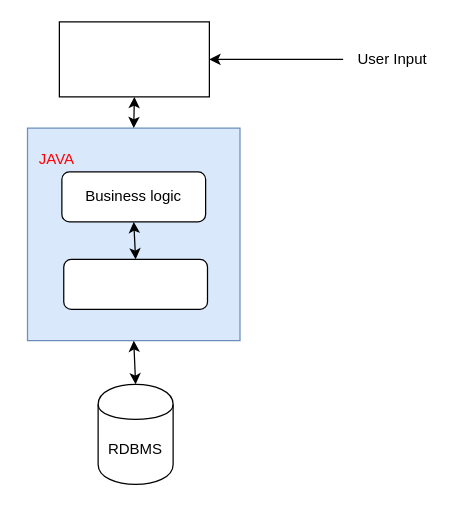
Some shapes in this 465 by 506 pixel diagram are drawn without their labels. The centre of each missing label's shape, as x and y in pixels:
"UI/Console" belongs at (133,59).
"Work flow" belongs at (135,283).
